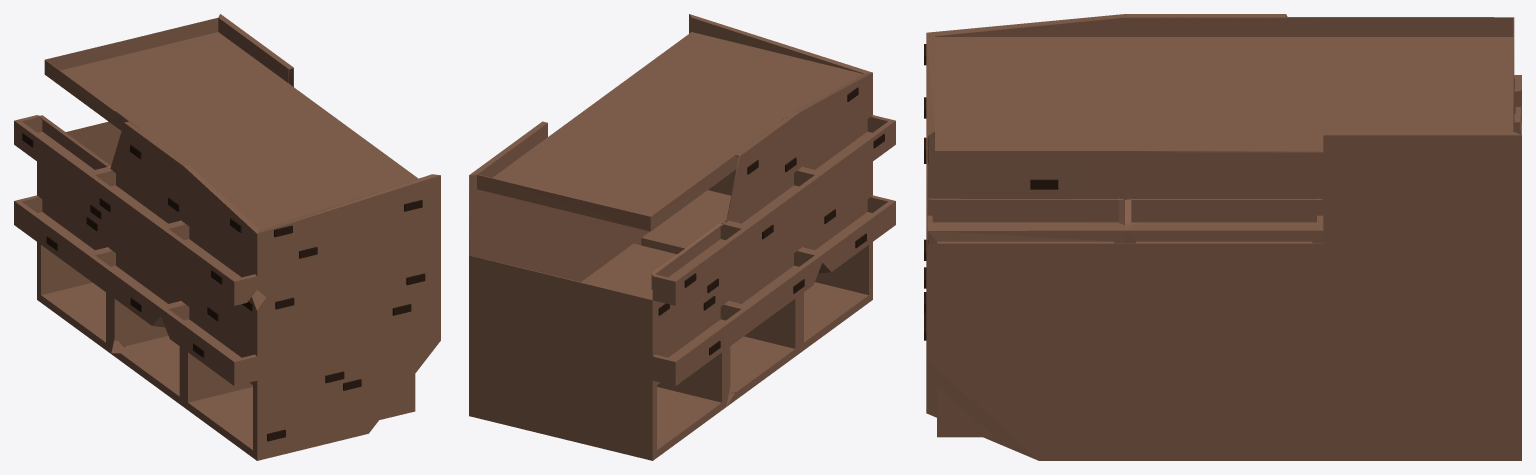
Rendered from 10 Building_3.FBX.
3 views of the same model, side by side, from view 1: azimuth 30°, elevation 25°; view 2: azimuth 150°, elevation 25°; view 3: azimuth 270°, elevation 25° (orthographic). The views are drawn at different scales.
Visible parts, largest first — view 1: Building_3; view 2: Building_3; view 3: Building_3.
Part boxes in pixels (x1,y1,x2,y2): Building_3: (14,14,440,460); Building_3: (469,14,895,460); Building_3: (924,14,1521,460).
Size of the model in its own units: 2254 by 2500 by 4159.
